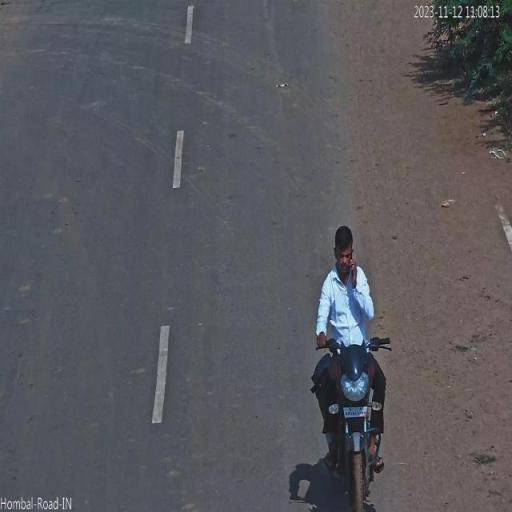using mobile: (348, 241, 358, 288)
